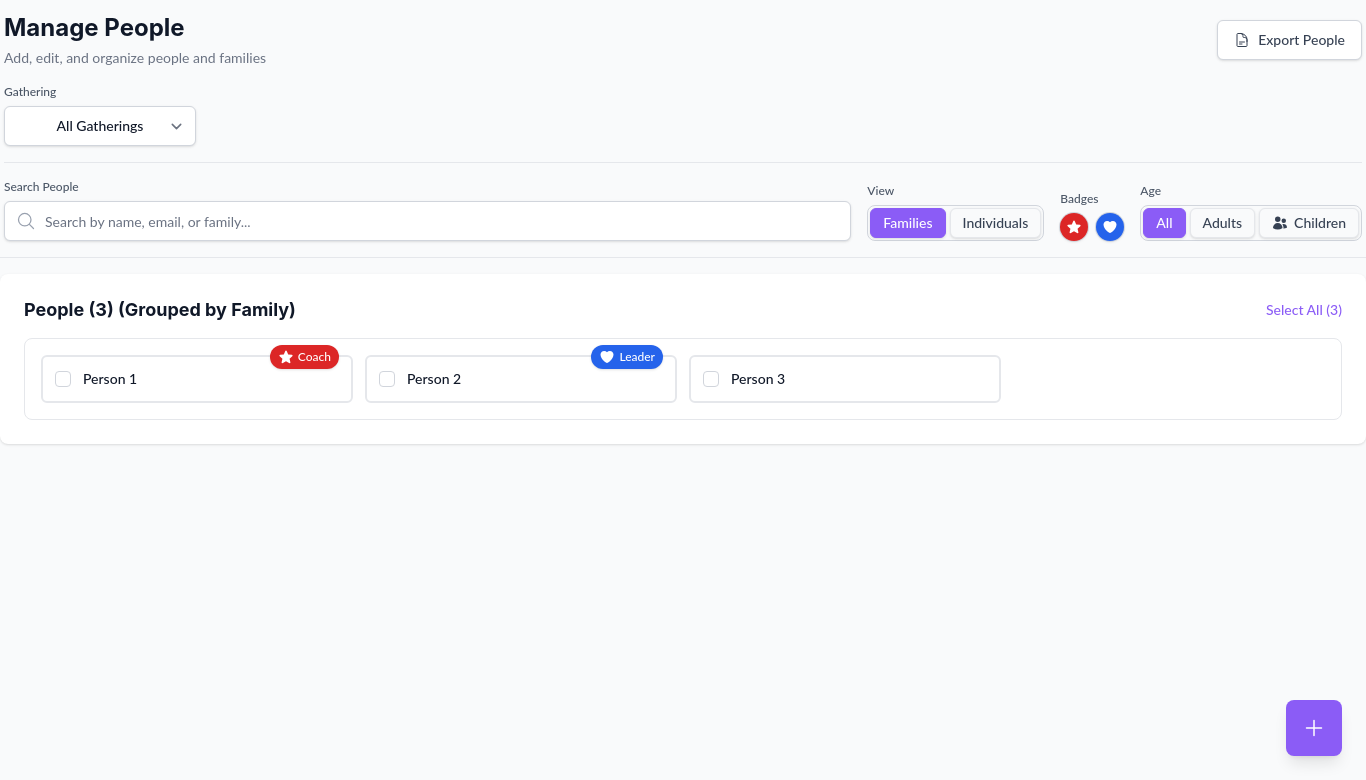
Test: PeoplePage badge filter › shows people matching any selected badge and updates the roster count
Click the button named "Filter by badge: Coach".
click(1074, 227)  # box [1060,213,1088,241]
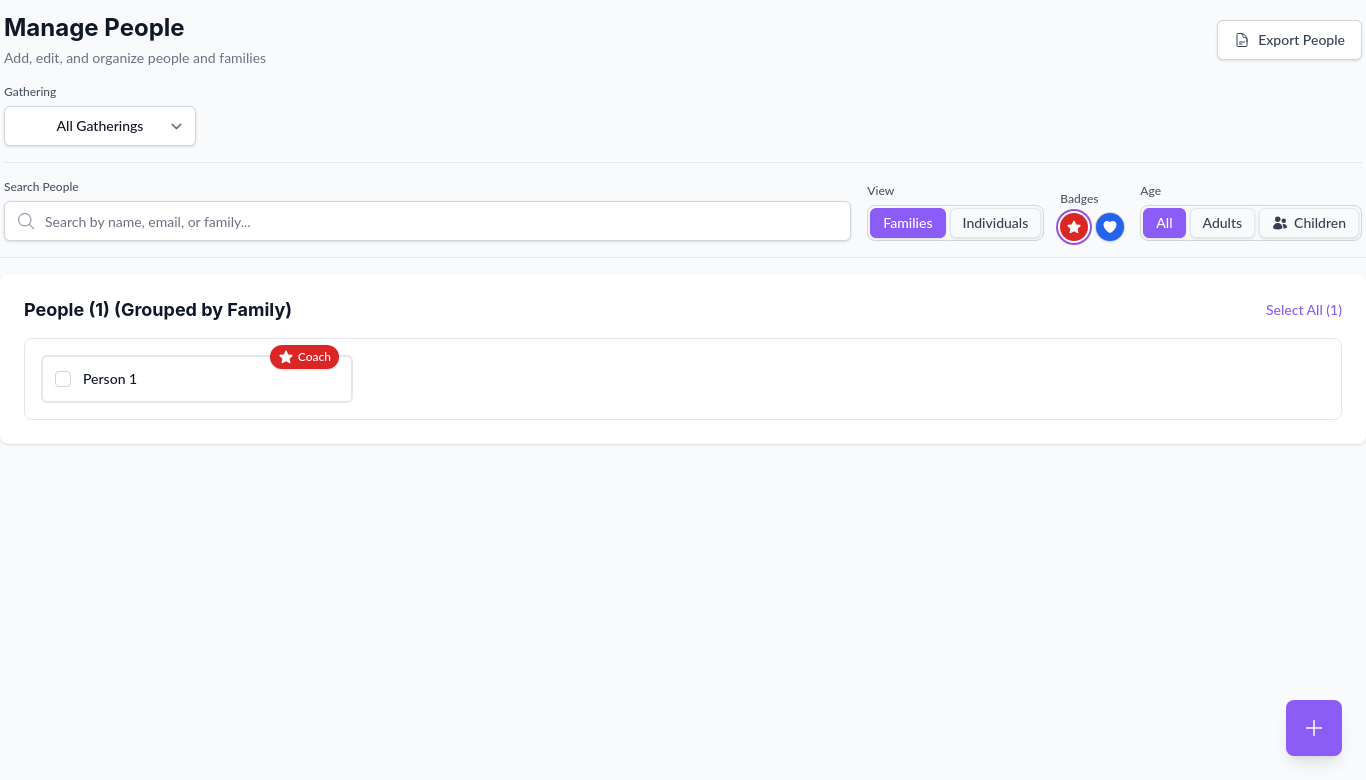
Check: the text "Person 2" is gone
Check: the text "Person 3" is gone
Check: the heading "People (1) (Grouped by Family)" is shown, box [24,298,292,322]
Click the button named "Filter by badge: Leader".
click(1110, 227)  # box [1096,213,1124,241]
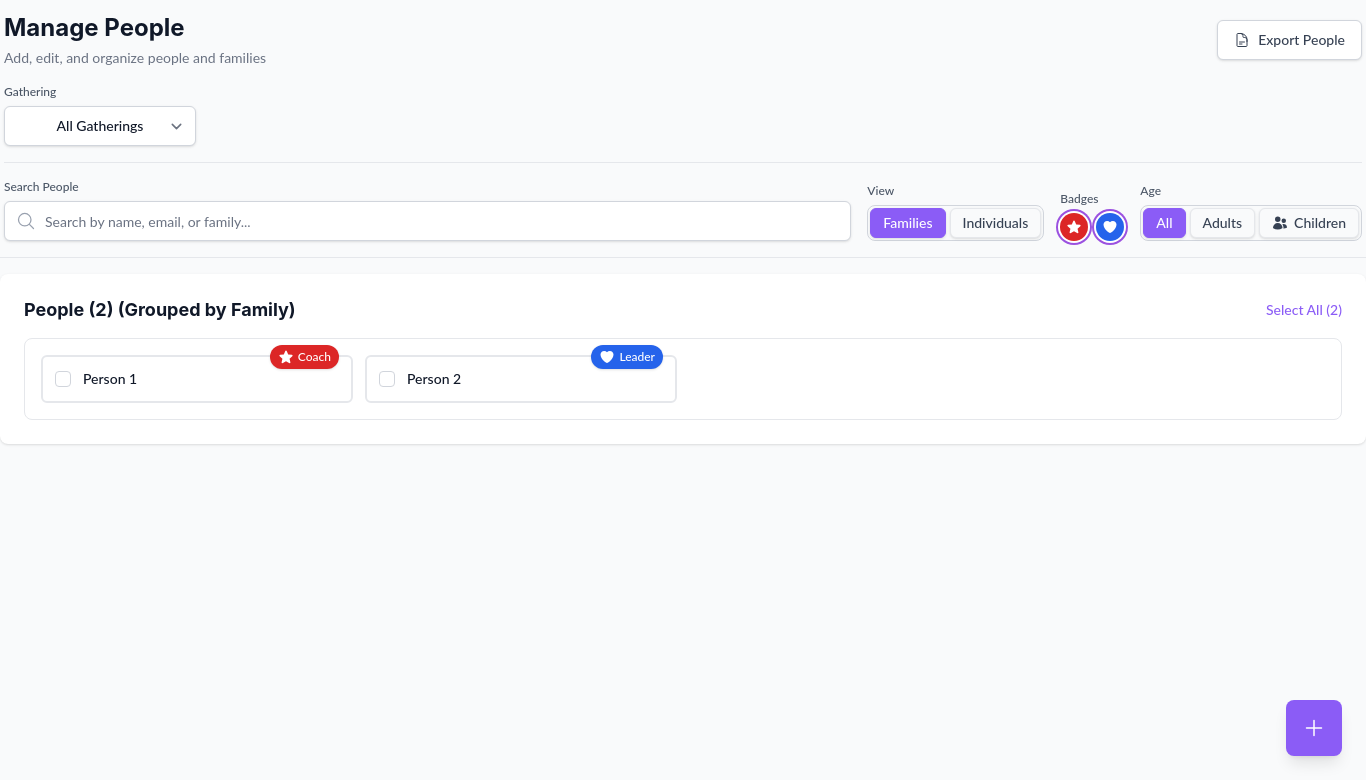
Check: the text "Person 1" is shown, box [83,369,137,389]
Check: the text "Person 2" is shown, box [407,369,461,389]
Check: the heading "People (2) (Grouped by Family)" is shown, box [24,298,296,322]
